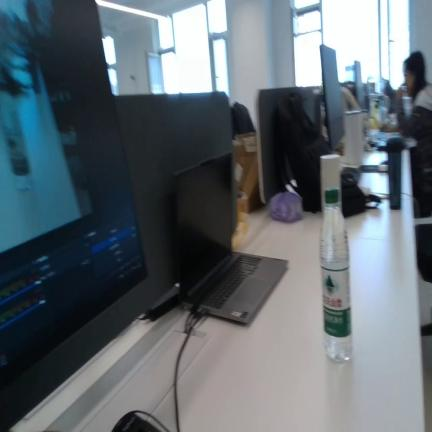bottle: (320, 187, 351, 362)
